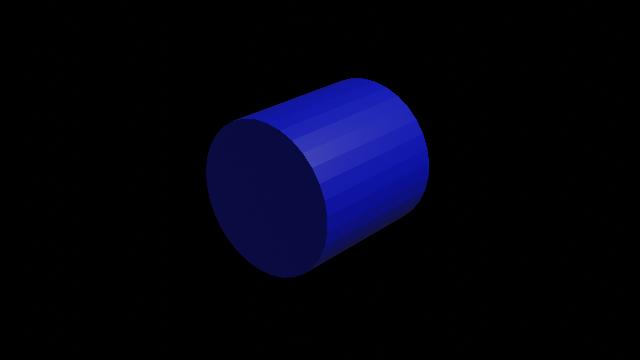Cylinder: (195, 69, 442, 285)
